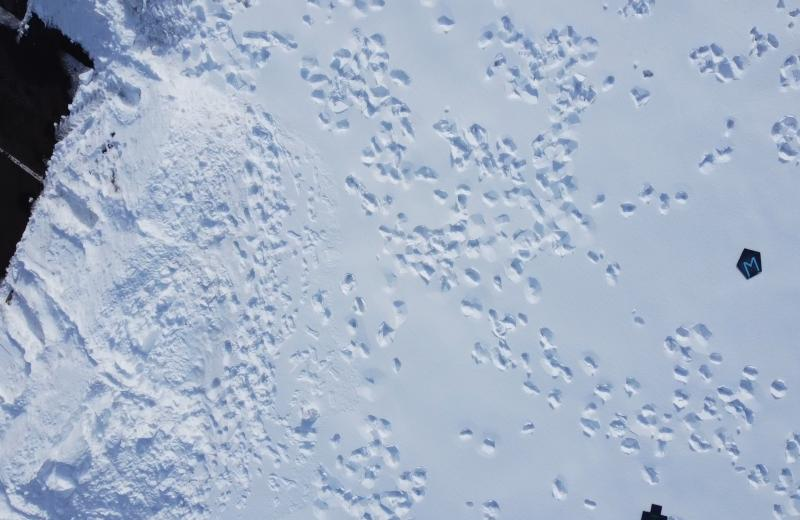Cross: (635, 472, 671, 520)
Pentagon: (724, 239, 766, 285)
